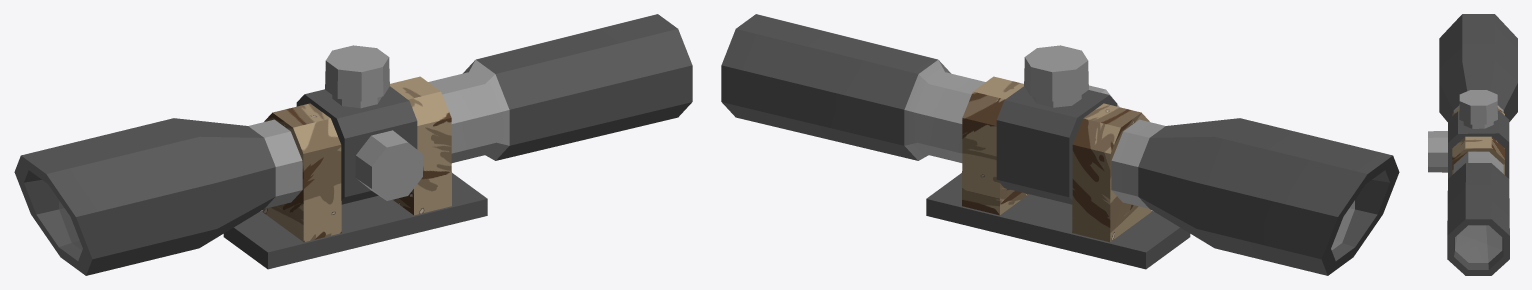
Rendered from SM_ScopeC.fbx.
The picture shows the model from 3 angles, left to right: view 1: azimuth 30°, elevation 25°; view 2: azimuth 150°, elevation 25°; view 3: azimuth 270°, elevation 25°; orthographic projection. The views are drawn at different scales.
Visible parts, largest first — view 1: SM_ScopeC; view 2: SM_ScopeC; view 3: SM_ScopeC.
Boxes of the visible parts, <box> form: SM_ScopeC: <box>14,14,692,275</box>; SM_ScopeC: <box>721,14,1399,275</box>; SM_ScopeC: <box>1428,14,1517,275</box>.
Size of the model in its own units: 26.79 by 6.75 by 5.14.
